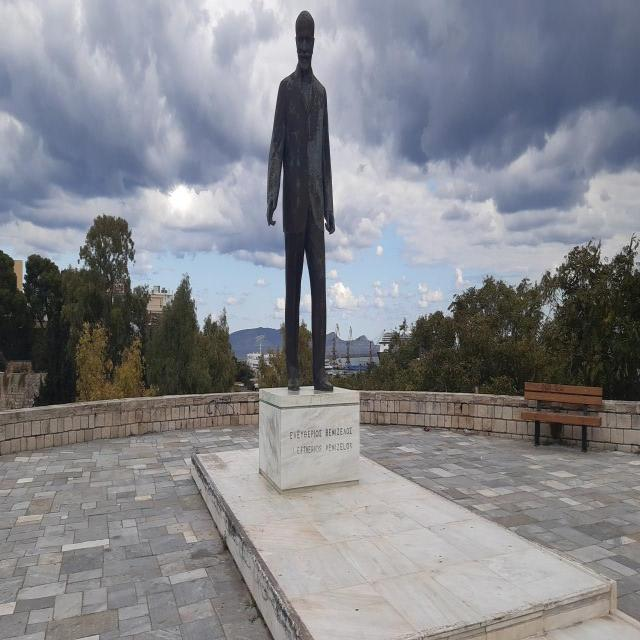Venizelos: (266, 11, 338, 399)
